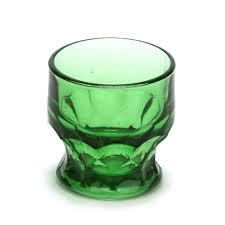glass: (48, 35, 177, 201)
